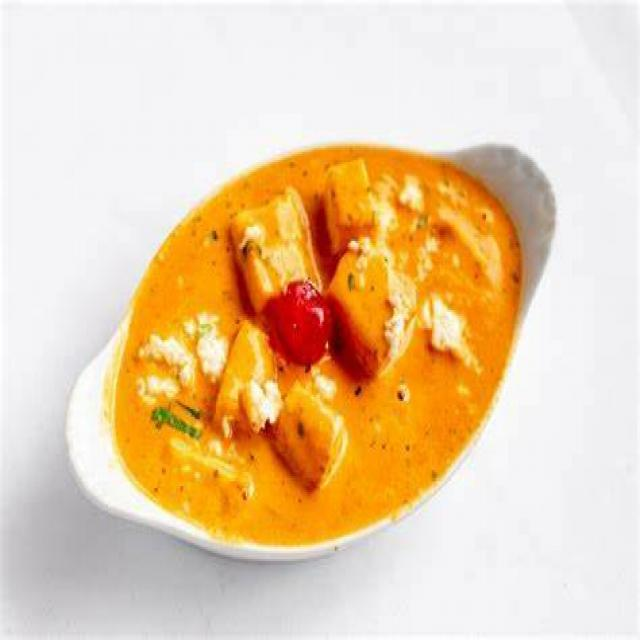ShahiPaneer: (113, 146, 521, 541)
